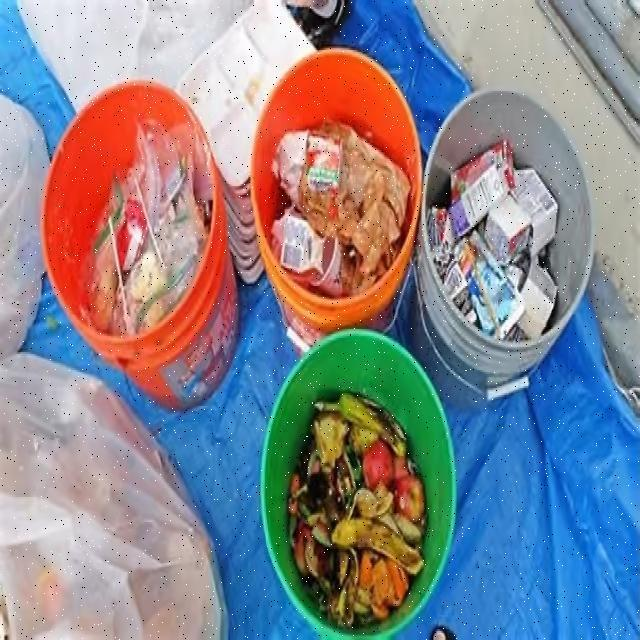Garbage: (86, 120, 212, 334), (428, 139, 558, 341)
Plastic_Bag: (88, 122, 212, 334)
Tetrapack: (428, 207, 476, 307), (469, 253, 525, 338), (449, 167, 509, 237), (511, 169, 558, 254), (519, 255, 558, 340)
